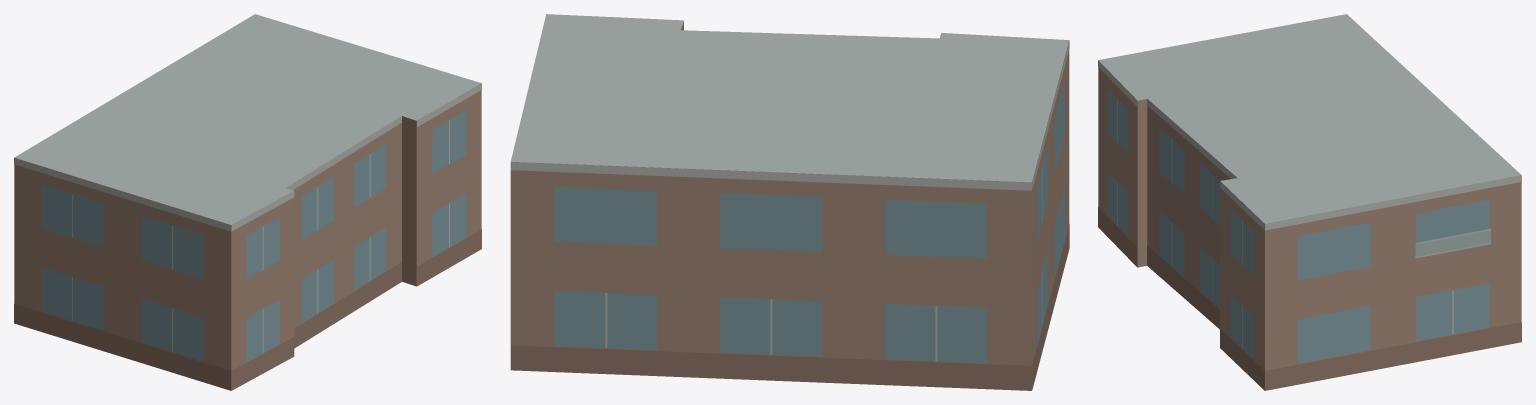
File: survey-upis-32687558.glb
3 renders of one model, left to right at view 1: azimuth 30°, elevation 25°; view 2: azimuth 150°, elevation 25°; view 3: azimuth 270°, elevation 25°, orthographic. The views are drawn at different scales.
Visible parts, largest first — view 1: survey-upis-32687558.tmp; view 2: survey-upis-32687558.tmp; view 3: survey-upis-32687558.tmp.
Part boxes in pixels (x1,y1,x2,y2): survey-upis-32687558.tmp: [14, 14, 481, 390]; survey-upis-32687558.tmp: [510, 14, 1069, 390]; survey-upis-32687558.tmp: [1098, 14, 1521, 390].
Bounding box in the file's own units: 16.45 × 6.1 × 14.04.
